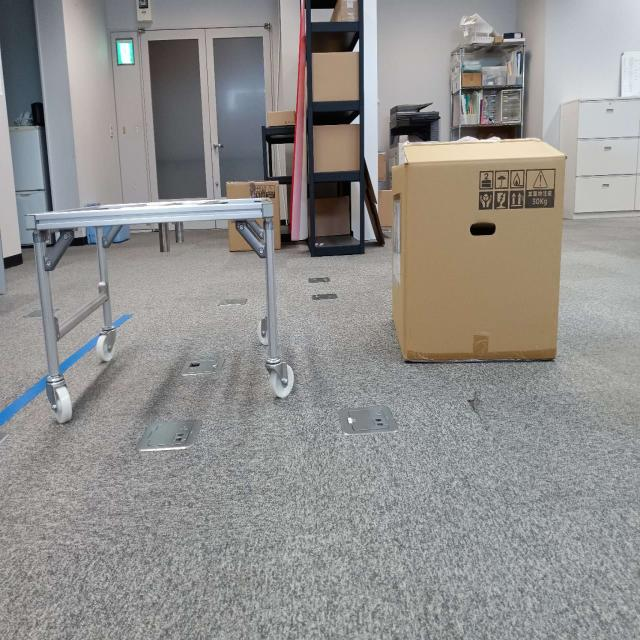box: (395, 142, 559, 362)
door: (37, 200, 274, 274)
